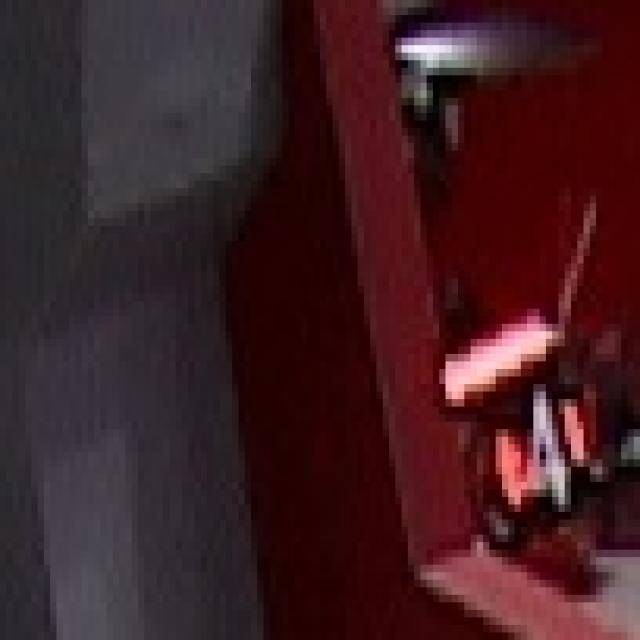R4: (489, 376, 584, 504)
